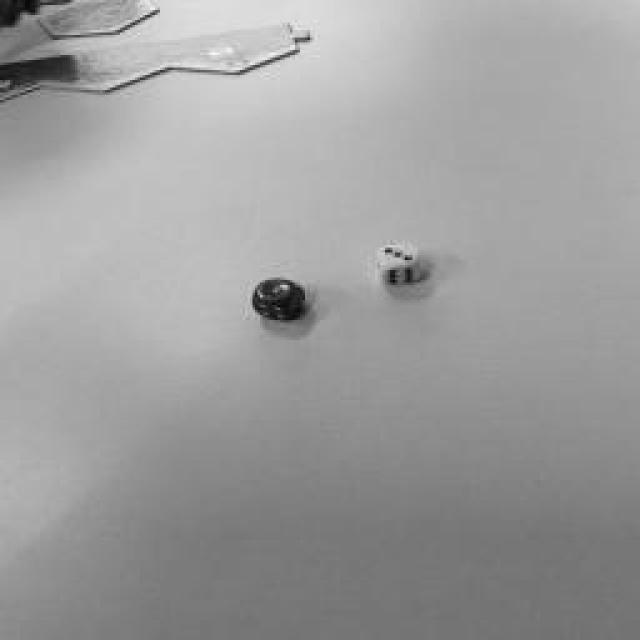dice_1: (256, 279, 299, 301)
dice_3: (376, 242, 419, 268)
